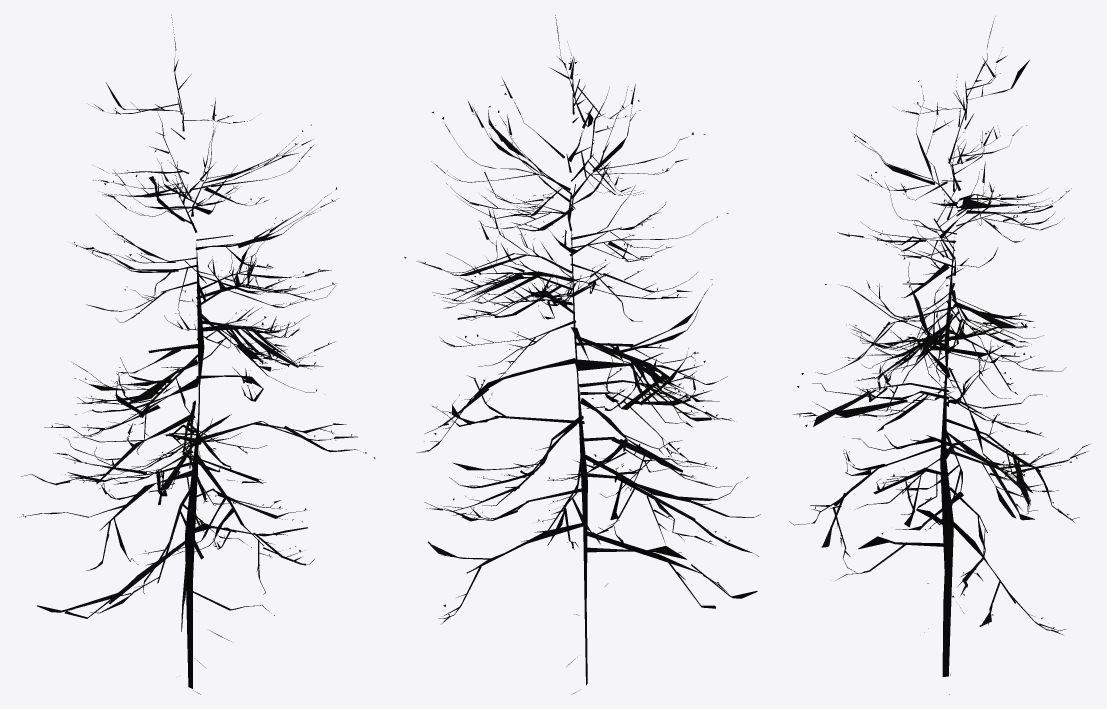
Rendered from Pine_Open_A.glb.
The picture shows the model from 3 angles, left to right: view 1: azimuth 30°, elevation 25°; view 2: azimuth 150°, elevation 25°; view 3: azimuth 270°, elevation 25°; orthographic projection. The views are drawn at different scales.
Parts seen in each view (by area): view 1: tree; view 2: tree; view 3: tree.
Part boxes in pixels (x1,y1,x2,y2): tree: [17, 15, 375, 694]; tree: [404, 15, 760, 694]; tree: [789, 16, 1091, 694].
Size of the model in its own units: 5.06 by 10.08 by 4.1.
1 material, 1 textured.
